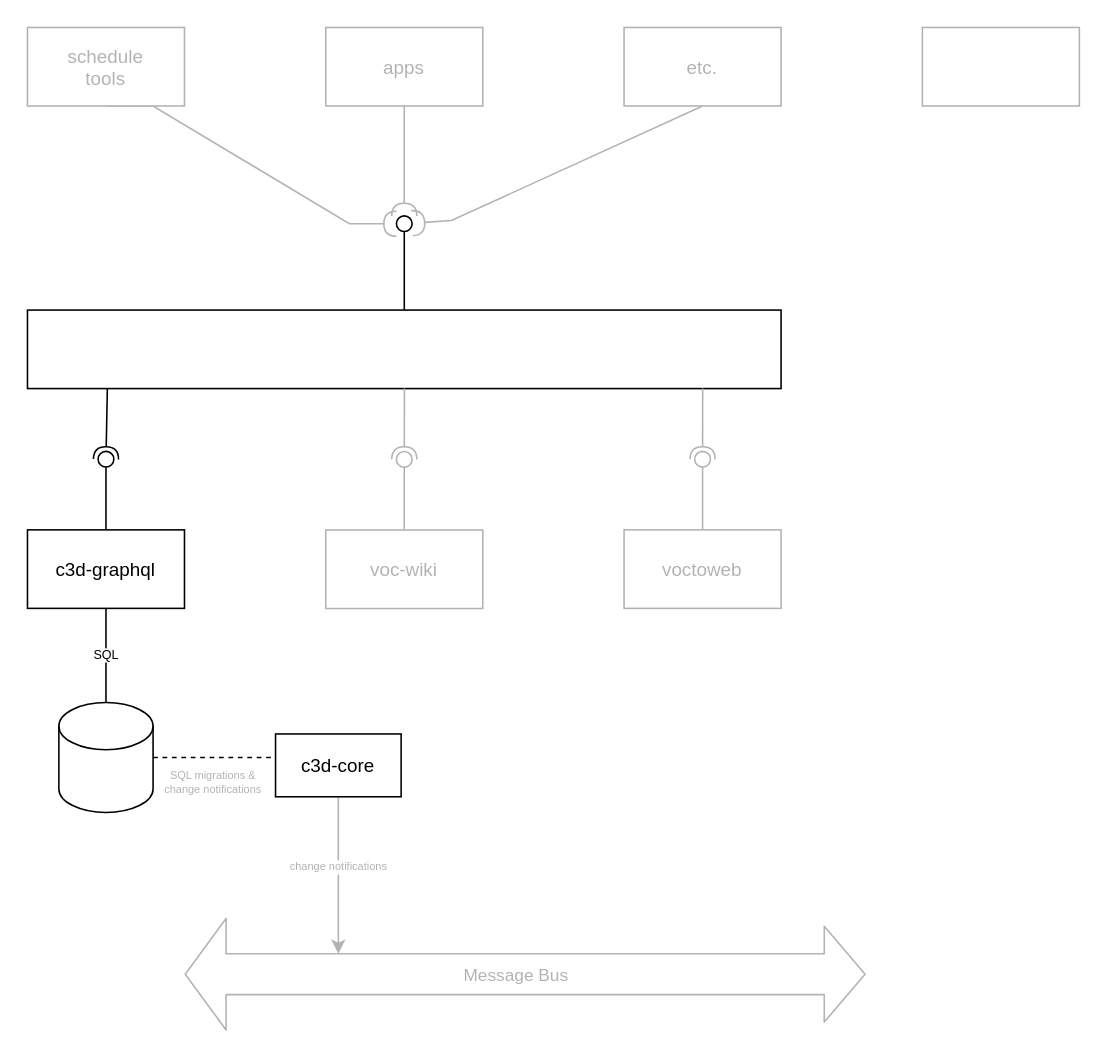
The diagram is 1107 pixels wide and 1058 high, and some of its shapes have lost their labels. The centre of each missing label's shape, as x and y in pixels:
c3d-gateway: the point at 403,349
Postgres: the point at 105,756
streaming- website: the point at 1000,66
